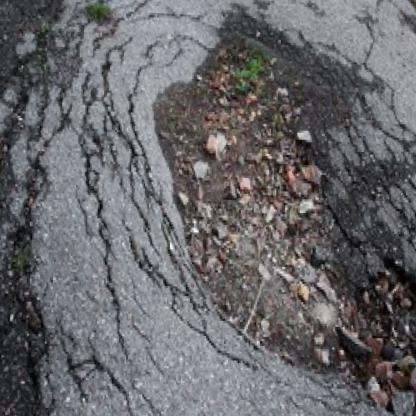pothole: (140, 9, 416, 416)
